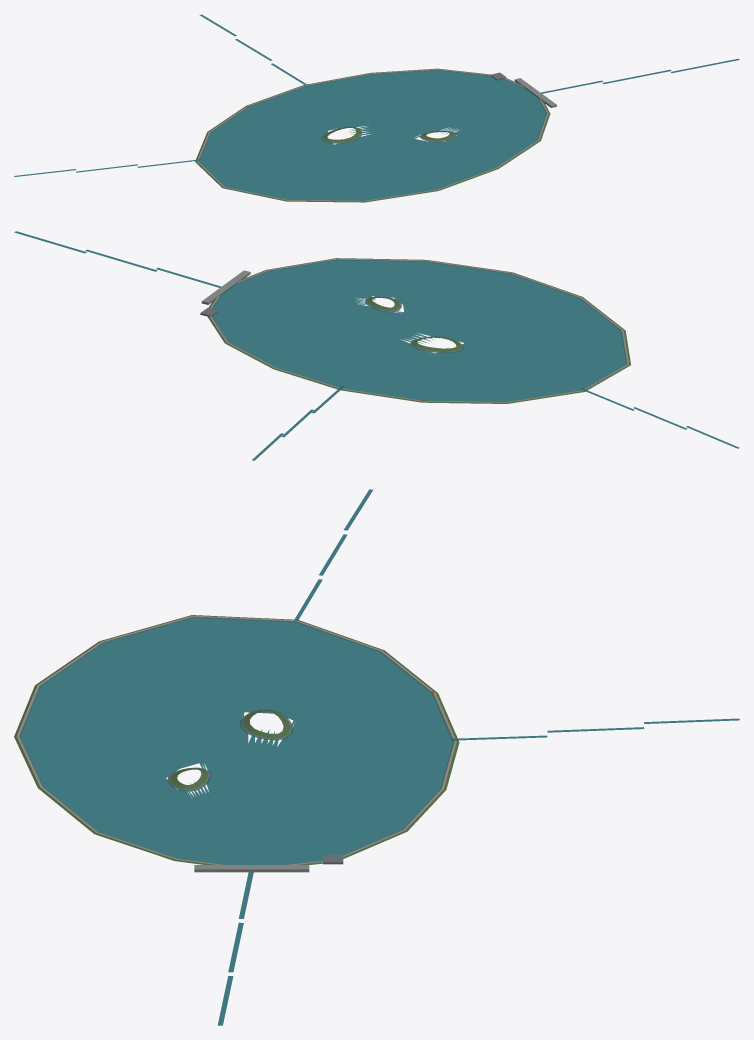
Rendered from water_ho_da_ra_hoa_nam_ban.glb.
The picture shows the model from 3 angles, top to bottom: view 1: azimuth 30°, elevation 25°; view 2: azimuth 150°, elevation 25°; view 3: azimuth 270°, elevation 25°; orthographic projection. The views are drawn at different scales.
Visible parts, largest first — view 1: water_surface_water_ho_da_ra_hoa_nam_ban, shoreline_terrain_transition_verge_water_ho_da_ra_hoa_nam_ba, lakeside_promenade_walkway_water_ho_da_ra_hoa_nam_ban, embankment_stone_coping_water_ho_da_ra_hoa_nam_ban, headwater_terraces_stream_da_ra_hoa_east_spillway_to_cam_ly_, headwater_terraces_stream_da_ra_hoa_west_coffee_valley_inflo; view 2: water_surface_water_ho_da_ra_hoa_nam_ban, shoreline_terrain_transition_verge_water_ho_da_ra_hoa_nam_ba, lakeside_promenade_walkway_water_ho_da_ra_hoa_nam_ban, embankment_stone_coping_water_ho_da_ra_hoa_nam_ban, headwater_terraces_stream_da_ra_hoa_east_spillway_to_cam_ly_, headwater_terraces_stream_da_ra_hoa_west_coffee_valley_inflo, embankment_stone_slope_water_ho_da_ra_hoa_nam_ban; view 3: water_surface_water_ho_da_ra_hoa_nam_ban, shoreline_terrain_transition_verge_water_ho_da_ra_hoa_nam_ba, lakeside_promenade_walkway_water_ho_da_ra_hoa_nam_ban, embankment_stone_coping_water_ho_da_ra_hoa_nam_ban, da_ra_hoa_main_irrigation_earth_dam_crest, headwater_terraces_stream_da_ra_hoa_east_spillway_to_cam_ly_.
Boxes of the visible parts, x1,y1,x2,y2 form: water_surface_water_ho_da_ra_hoa_nam_ban: [199, 70, 546, 200]; shoreline_terrain_transition_verge_water_ho_da_ra_hoa_nam_ba: [195, 68, 550, 202]; lakeside_promenade_walkway_water_ho_da_ra_hoa_nam_ban: [196, 69, 548, 201]; embankment_stone_coping_water_ho_da_ra_hoa_nam_ban: [198, 69, 547, 200]; headwater_terraces_stream_da_ra_hoa_east_spillway_to_cam_ly_: [541, 58, 739, 93]; headwater_terraces_stream_da_ra_hoa_west_coffee_valley_inflo: [14, 159, 200, 176]; water_surface_water_ho_da_ra_hoa_nam_ban: [212, 259, 626, 401]; shoreline_terrain_transition_verge_water_ho_da_ra_hoa_nam_ba: [207, 258, 630, 403]; lakeside_promenade_walkway_water_ho_da_ra_hoa_nam_ban: [209, 258, 628, 402]; embankment_stone_coping_water_ho_da_ra_hoa_nam_ban: [211, 259, 627, 402]; headwater_terraces_stream_da_ra_hoa_east_spillway_to_cam_ly_: [14, 231, 221, 287]; headwater_terraces_stream_da_ra_hoa_west_coffee_valley_inflo: [580, 388, 739, 448]; embankment_stone_slope_water_ho_da_ra_hoa_nam_ban: [212, 259, 626, 363]; water_surface_water_ho_da_ra_hoa_nam_ban: [20, 617, 453, 864]; shoreline_terrain_transition_verge_water_ho_da_ra_hoa_nam_ba: [14, 615, 459, 871]; lakeside_promenade_walkway_water_ho_da_ra_hoa_nam_ban: [16, 615, 456, 864]; embankment_stone_coping_water_ho_da_ra_hoa_nam_ban: [19, 616, 454, 864]; da_ra_hoa_main_irrigation_earth_dam_crest: [194, 865, 309, 872]; headwater_terraces_stream_da_ra_hoa_east_spillway_to_cam_ly_: [217, 872, 253, 1025].
Size of the model in its own units: 2557 by 50 by 1518.
